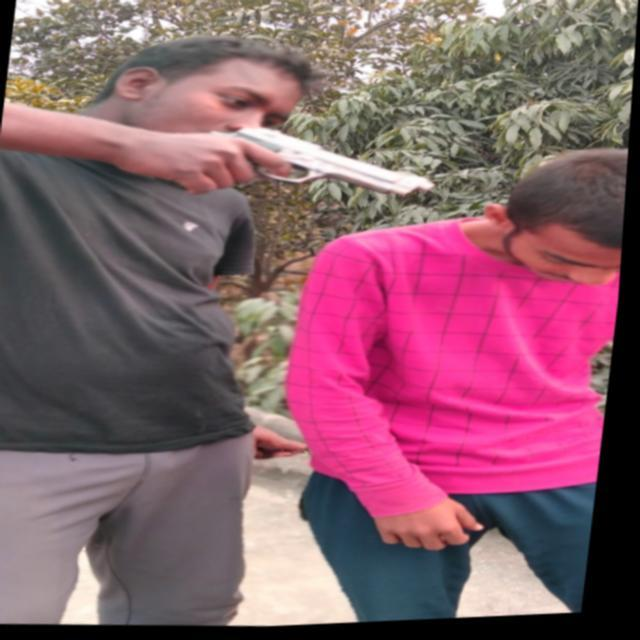weapon: (144, 112, 452, 216)
